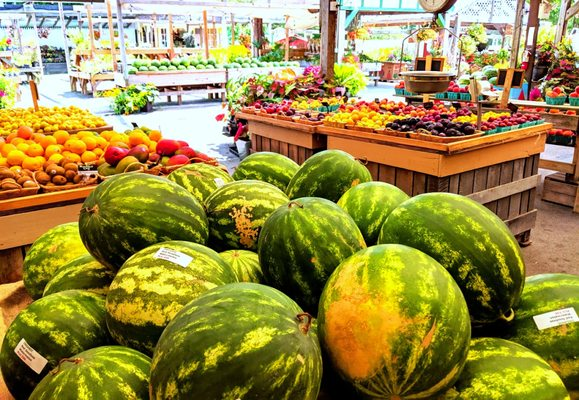steak: (316, 243, 470, 394)
